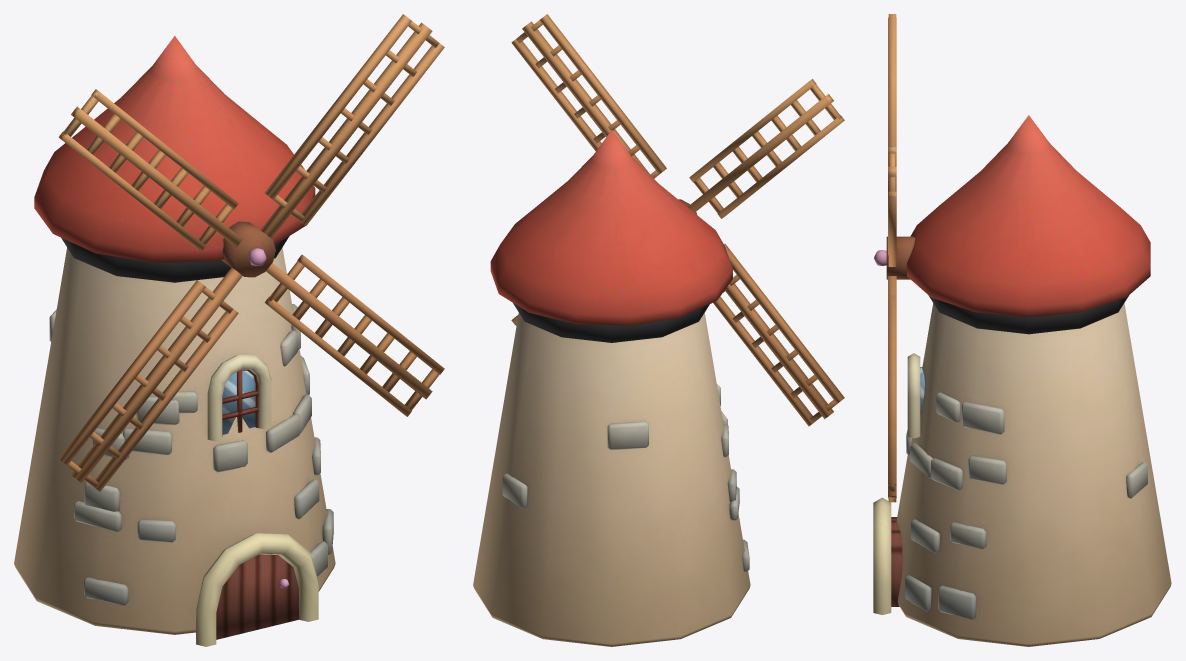
The model's file is mill_1_mid.glb.
3 renders of one model, left to right at view 1: azimuth 30°, elevation 25°; view 2: azimuth 150°, elevation 25°; view 3: azimuth 270°, elevation 25°, orthographic. The views are drawn at different scales.
Parts seen in each view (by area): view 1: mill_1, sails; view 2: mill_1, sails; view 3: mill_1, sails.
Boxes of the visible parts, <box> form: mill_1: <box>14,36,335,646</box>; sails: <box>58,14,444,491</box>; mill_1: <box>473,130,750,646</box>; sails: <box>511,14,844,426</box>; mill_1: <box>873,115,1171,646</box>; sails: <box>874,14,896,502</box>.
Size of the model in its own units: 1.36 by 1.95 by 1.04.
Materials: 1 (1 with a texture image).
